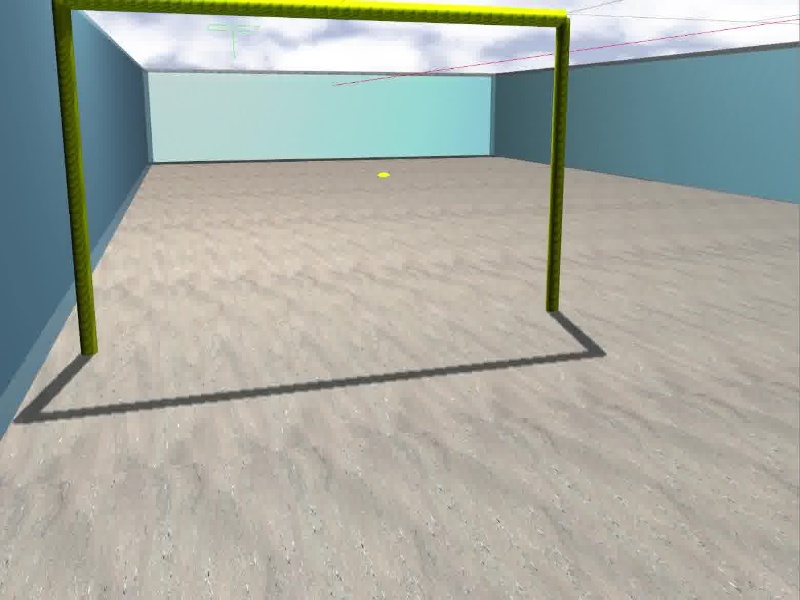gate: (51, 1, 571, 356)
